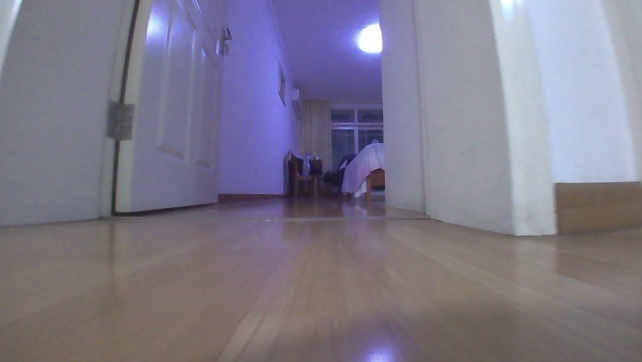bed1: (336, 140, 385, 202)
door_anno: (0, 0, 235, 232)
